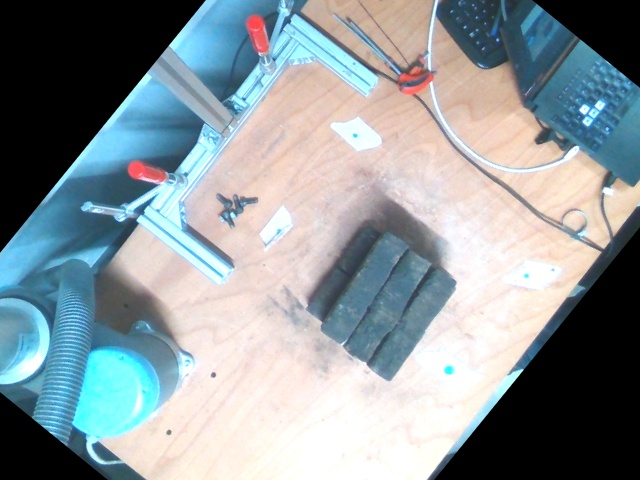brick-side: (371, 270, 456, 381), (322, 231, 406, 343), (347, 248, 431, 360)
